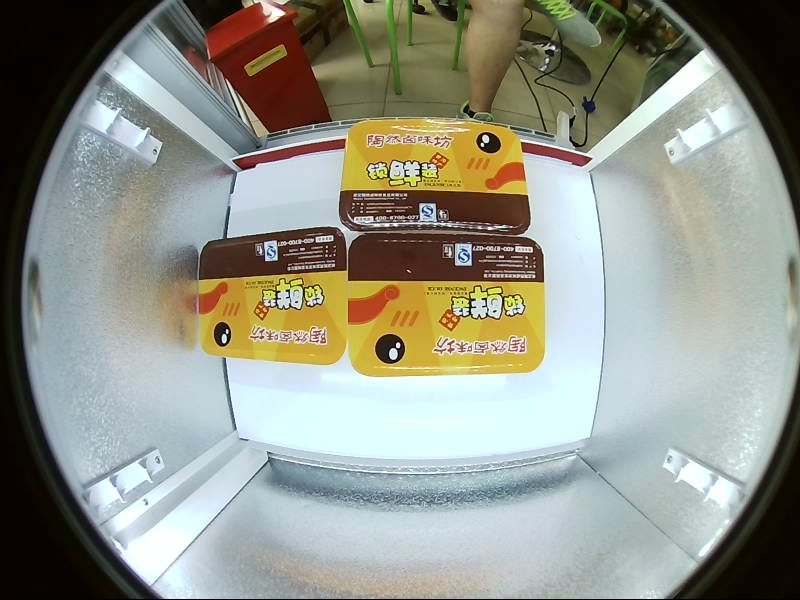ops-m155: (273, 200, 567, 416), (366, 179, 564, 479), (192, 173, 377, 466), (284, 199, 525, 422), (120, 254, 332, 497), (381, 133, 626, 342), (326, 327, 537, 564), (381, 308, 575, 557), (371, 322, 568, 559), (204, 323, 399, 561), (280, 405, 556, 560), (477, 295, 645, 539), (363, 113, 575, 306), (362, 302, 563, 501), (452, 162, 650, 363), (376, 268, 566, 477), (365, 118, 573, 295), (476, 217, 643, 435), (482, 209, 661, 412), (456, 202, 630, 403), (128, 381, 322, 556), (459, 389, 652, 557), (458, 384, 651, 550), (456, 70, 648, 236), (346, 202, 494, 414), (523, 322, 661, 541), (289, 227, 435, 432), (221, 289, 377, 480), (400, 203, 540, 412), (377, 133, 580, 275), (294, 122, 496, 264), (348, 232, 543, 379), (407, 289, 596, 434), (418, 195, 552, 398), (287, 194, 419, 397), (395, 304, 536, 487), (301, 114, 438, 298), (428, 114, 566, 294), (418, 318, 549, 502), (472, 294, 596, 483), (485, 211, 644, 357), (337, 116, 531, 234), (475, 227, 632, 370), (470, 120, 631, 250), (526, 326, 643, 497), (468, 118, 626, 243), (537, 214, 637, 405), (518, 126, 629, 291), (523, 300, 626, 473)
